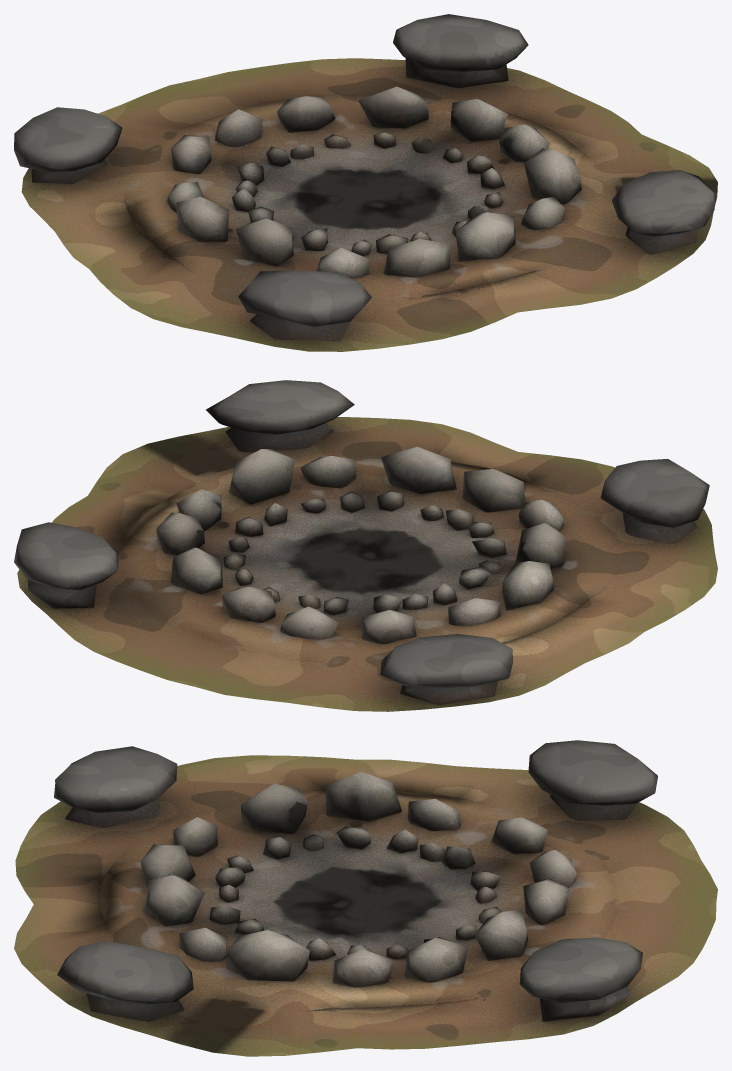
The model's file is hearth_ring.gltf.
The picture shows the model from 3 angles, top to bottom: view 1: azimuth 30°, elevation 25°; view 2: azimuth 150°, elevation 25°; view 3: azimuth 270°, elevation 25°; orthographic projection. The views are drawn at different scales.
Visible parts, largest first — view 1: hearth_ring; view 2: hearth_ring; view 3: hearth_ring.
Part boxes in pixels (box(x1,y1,x2,y2)): hearth_ring: box(14, 14, 717, 351); hearth_ring: box(14, 380, 717, 711); hearth_ring: box(14, 740, 717, 1056).
Size of the model in its own units: 3.09 by 0.2712 by 3.05.
Materials: 3 (3 with a texture image).
